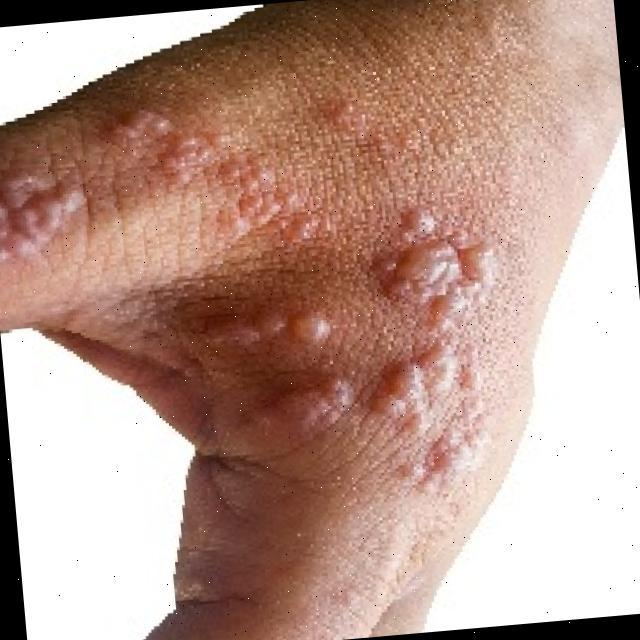Shingles: (376, 194, 498, 494), (108, 109, 318, 248), (0, 166, 80, 258), (234, 378, 354, 438), (187, 307, 333, 346)
